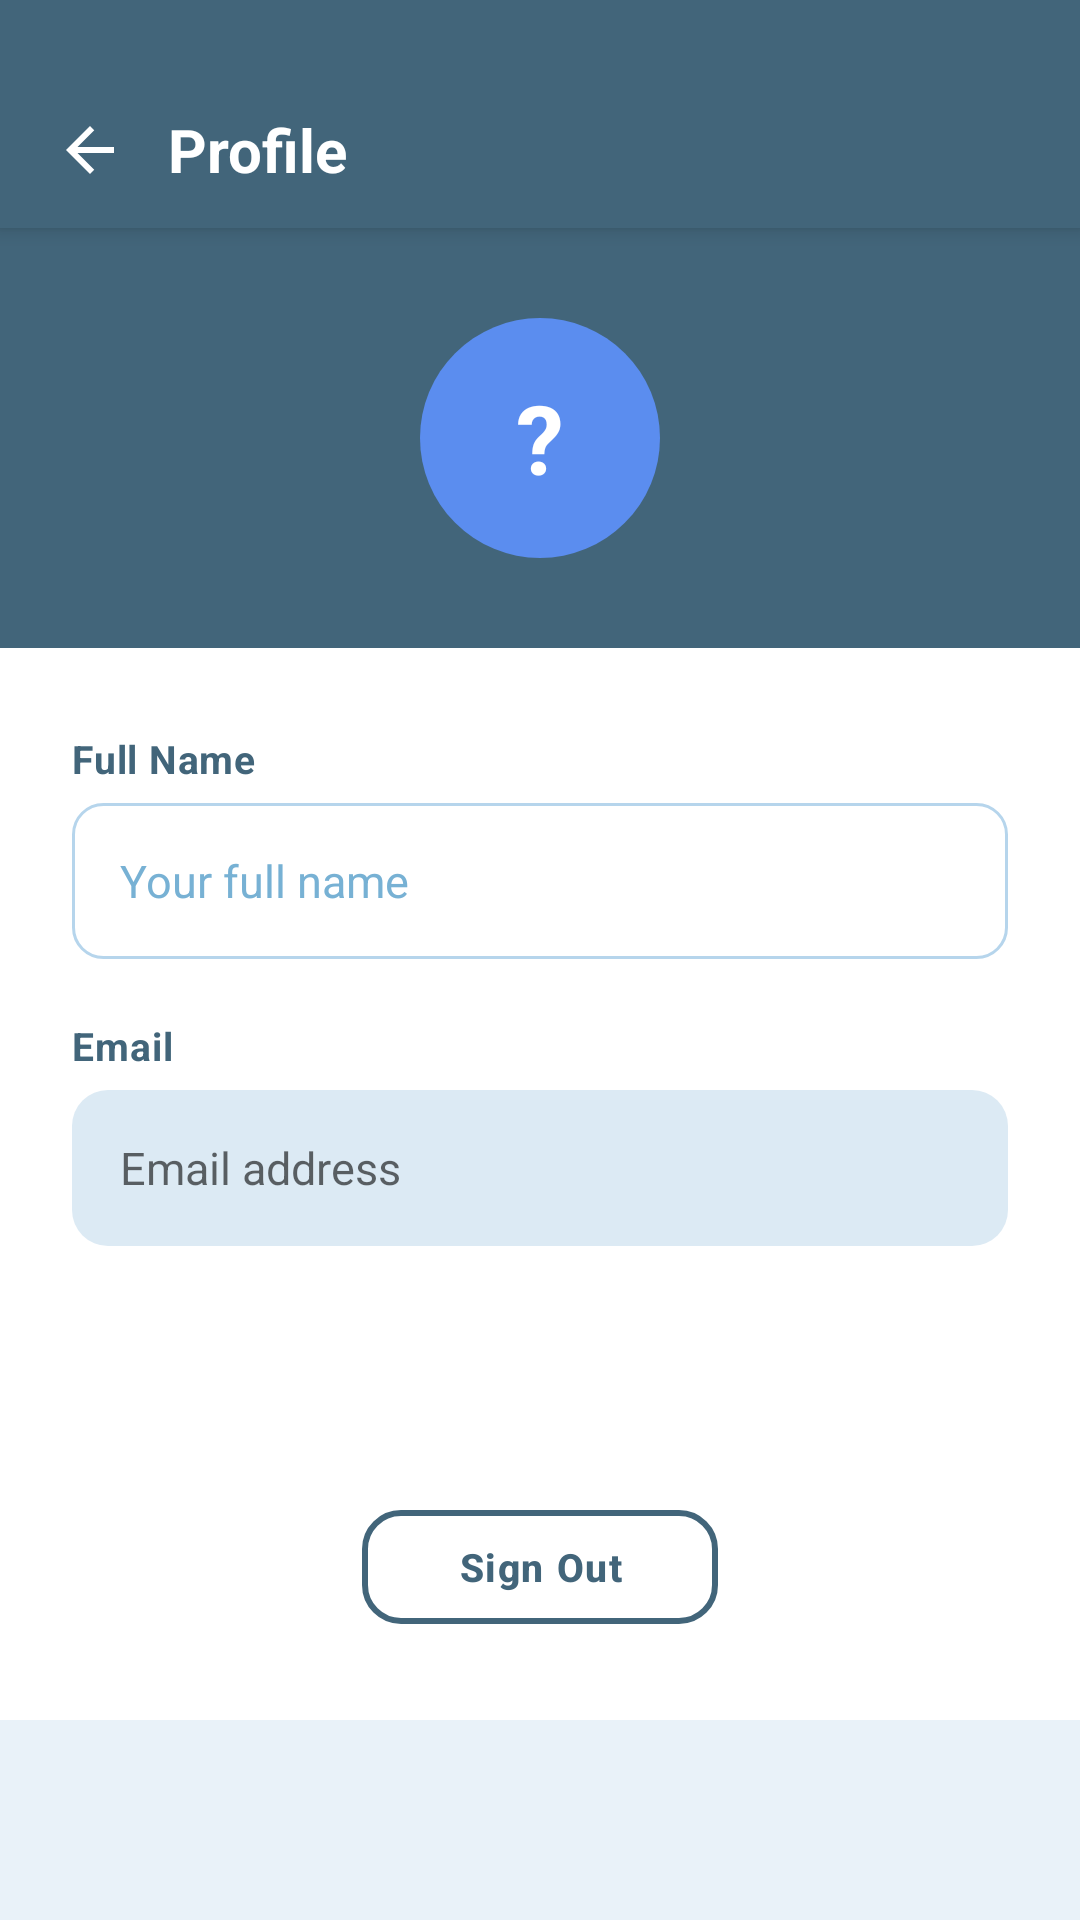

Icon click points for this 1080x1920 phone screenshot, format point (x, y):
Back: point (90, 150)
